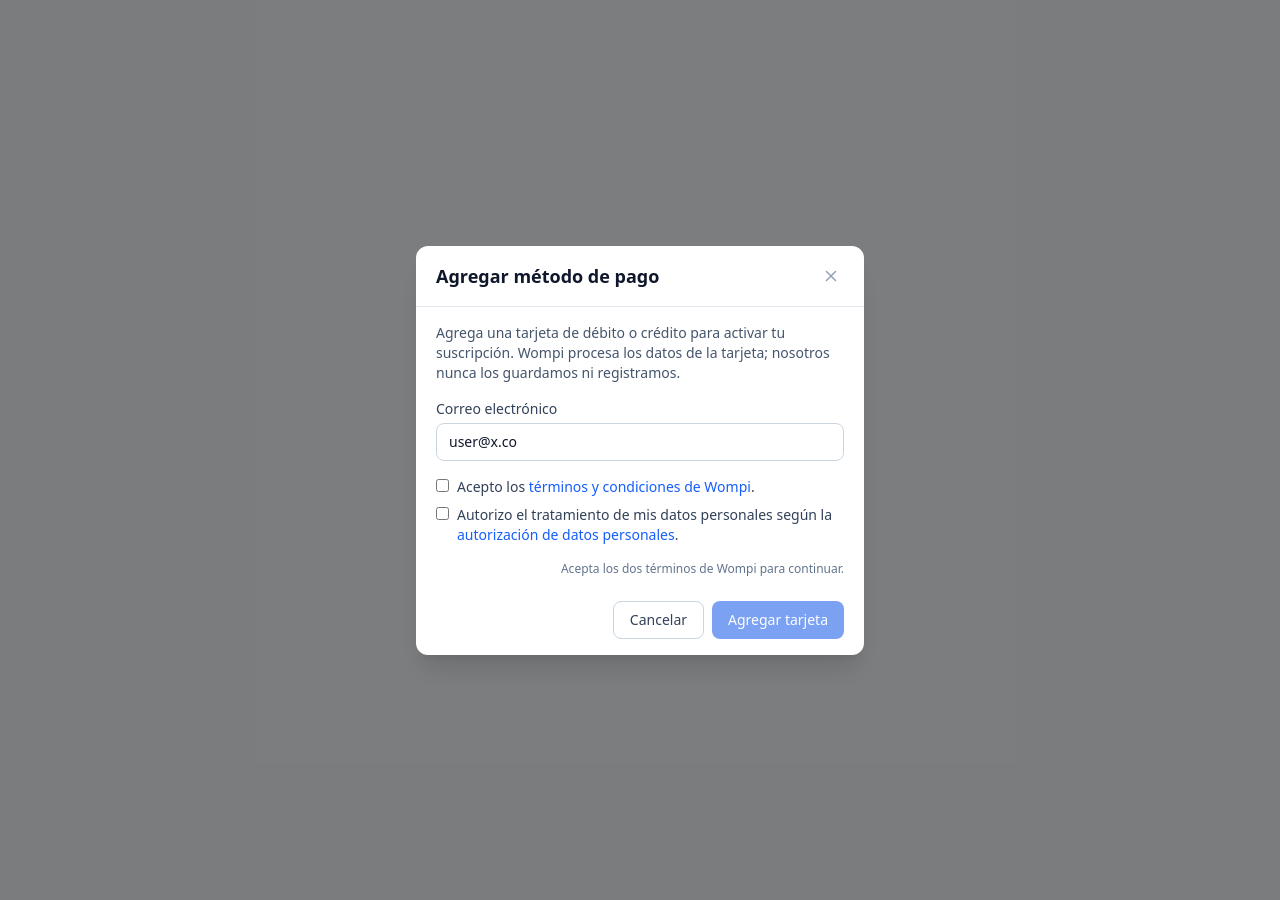
Test: MetodoPagoFlow › blocks "Add card" until both terms are checked and email is filled
Expected: the button "Agregar tarjeta" is disabled, [712,600,844,638]
Expected: the text "Acepta los dos términos de Wompi para continuar." is shown, [561,560,844,576]
Step 1. Click the checkbox labelled "Acepto los términos y condiciones de Wompi ." → [442, 485], box [436,478,449,492]
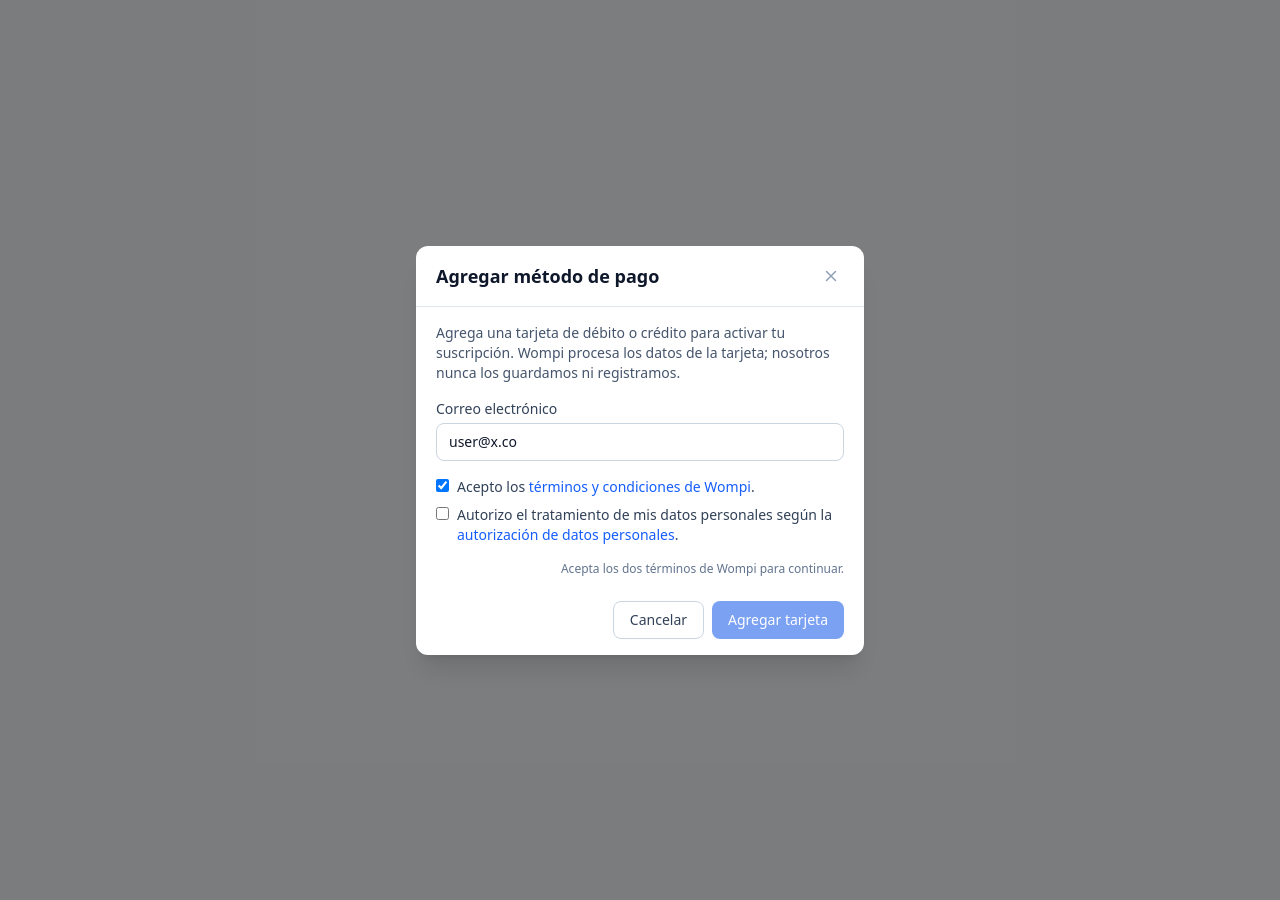
Expected: the button "Agregar tarjeta" is disabled, [712,600,844,638]
Step 2. Click the 2nd checkbox → [442, 513], box [436,506,449,520]
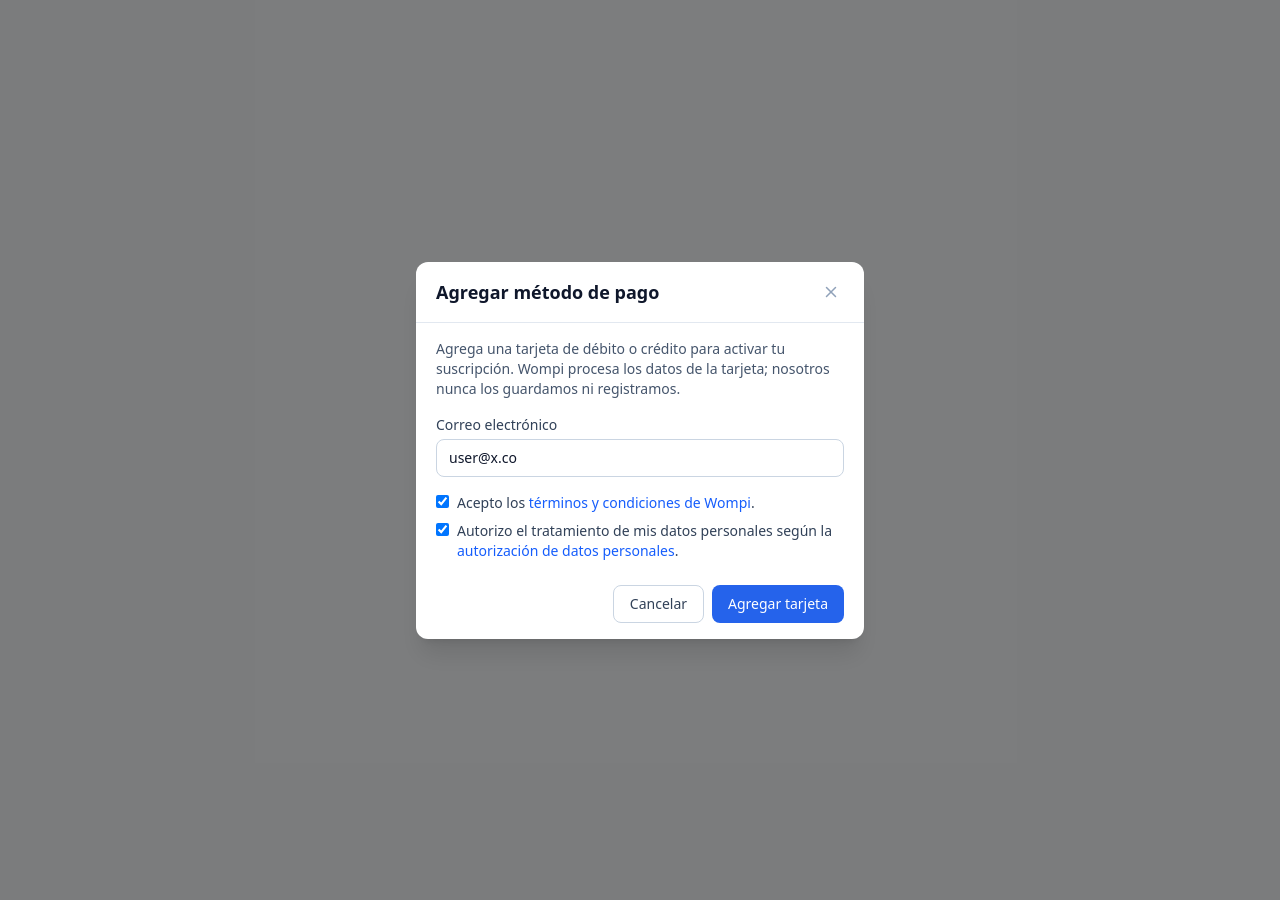
Result: the button "Agregar tarjeta" is enabled at [712,584,844,622]
